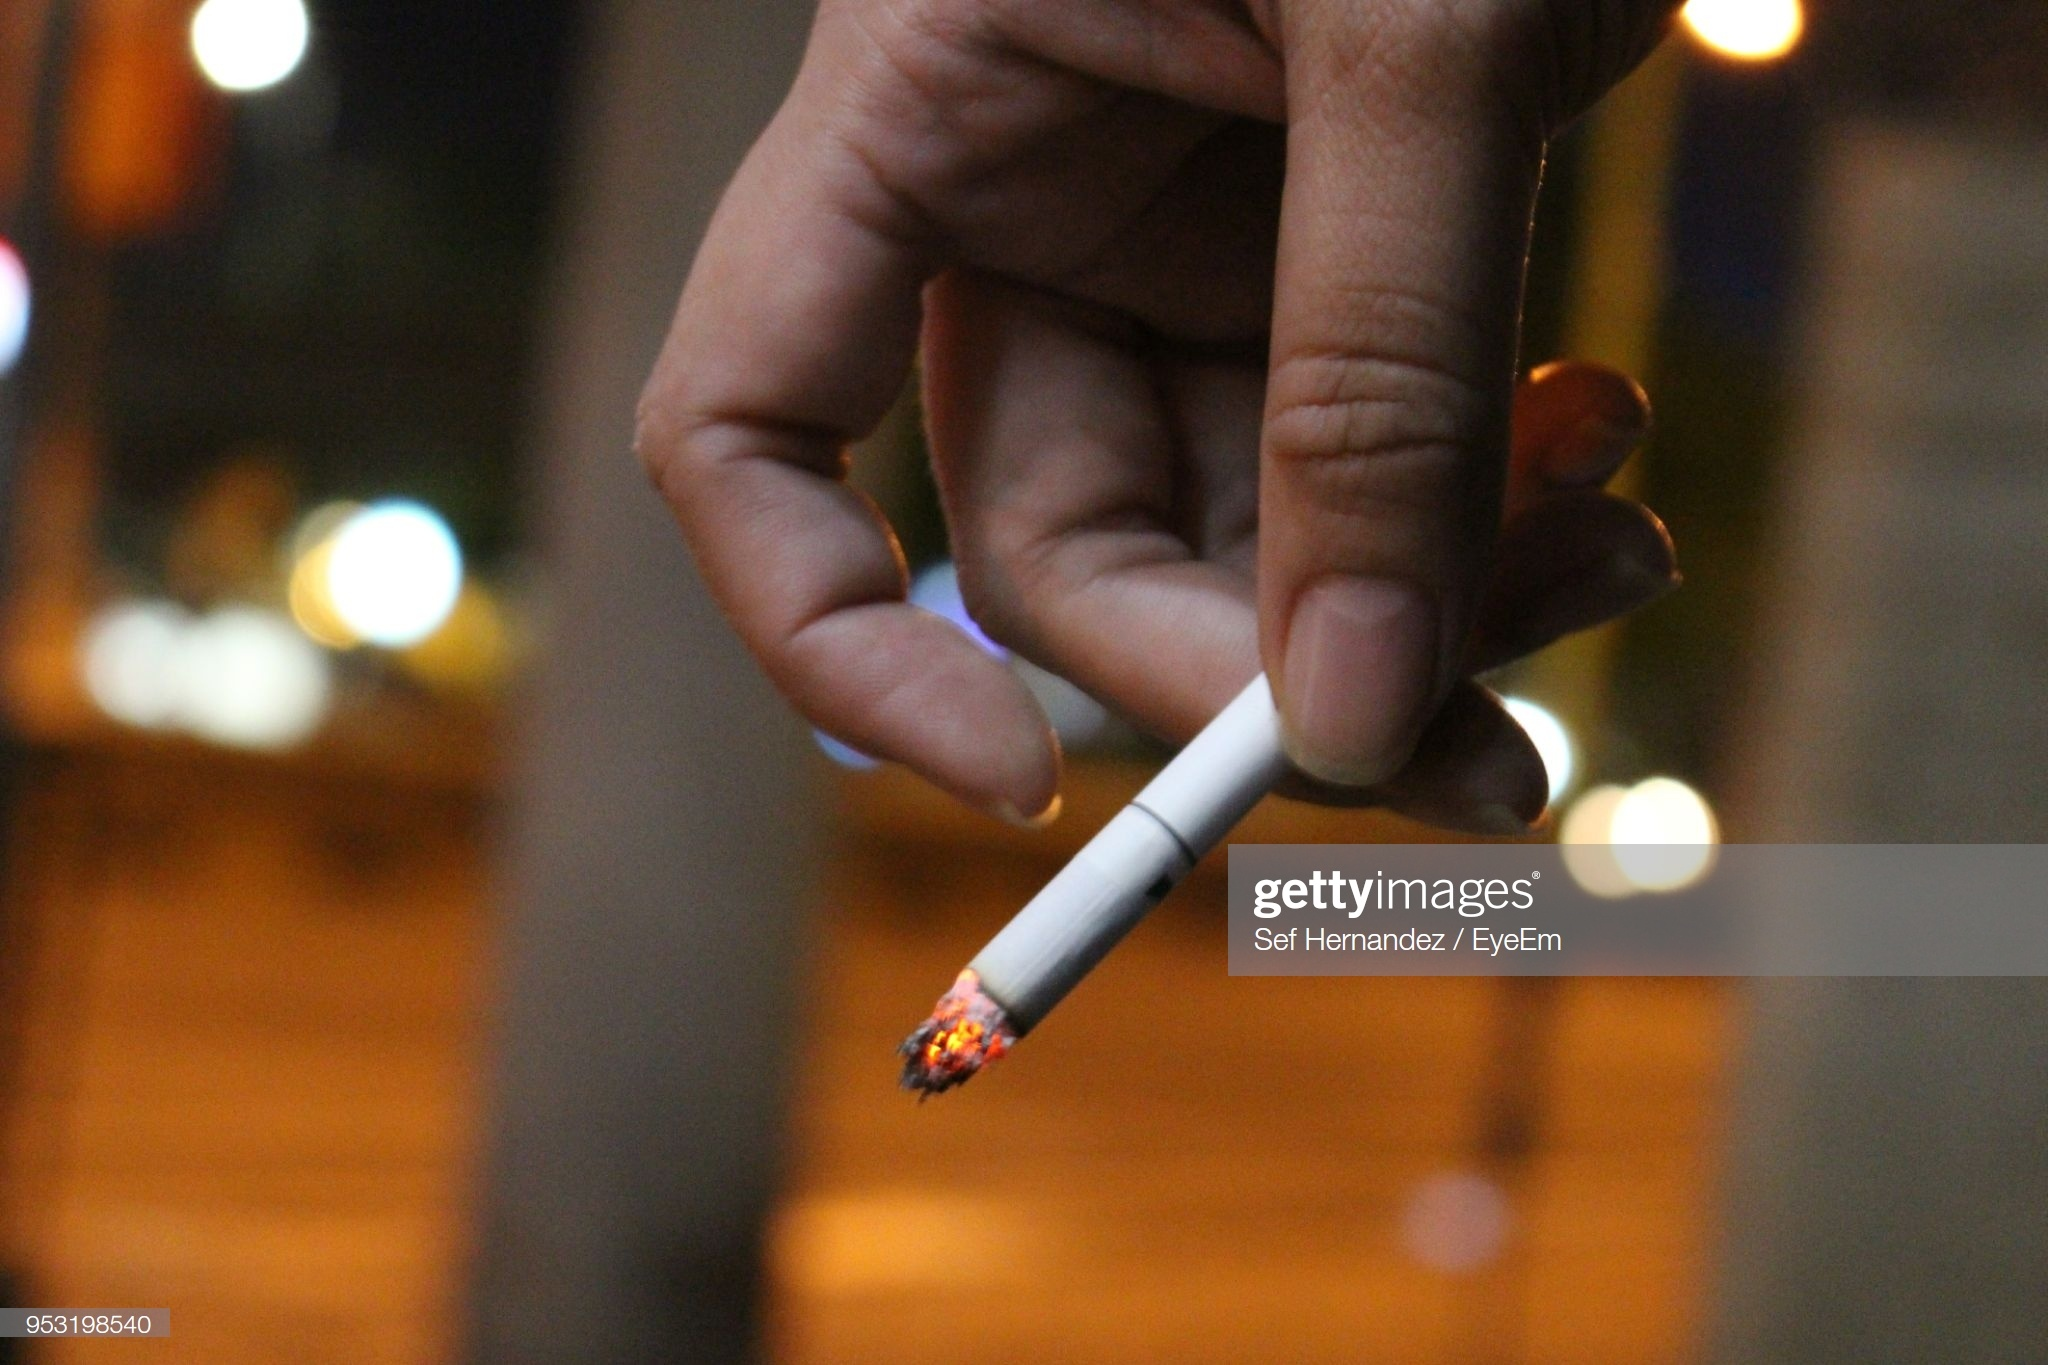sigaretta: (892, 567, 1398, 1092)
